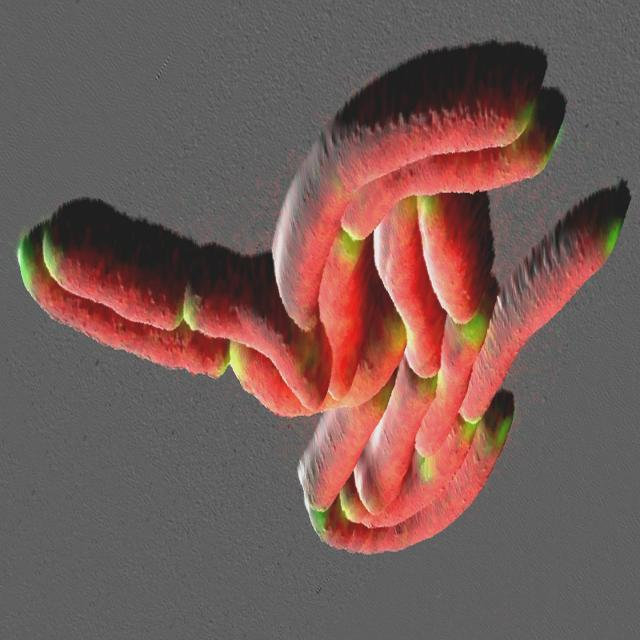Amoeba: (17, 44, 631, 558)
